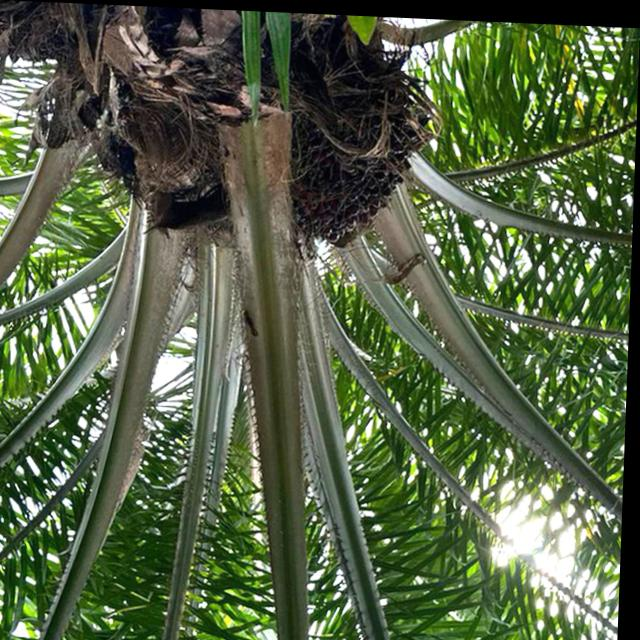almost: (272, 72, 443, 256)
